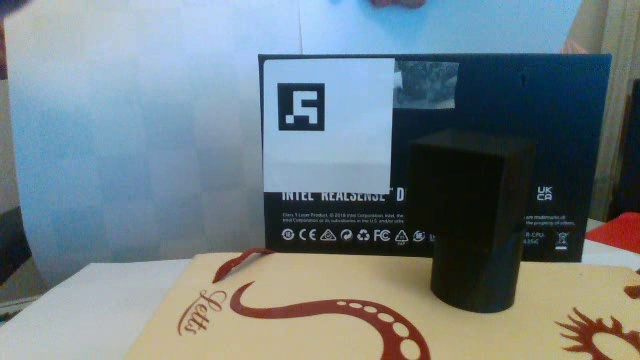cube: (397, 117, 542, 250)
cylindre: (424, 225, 528, 318)
